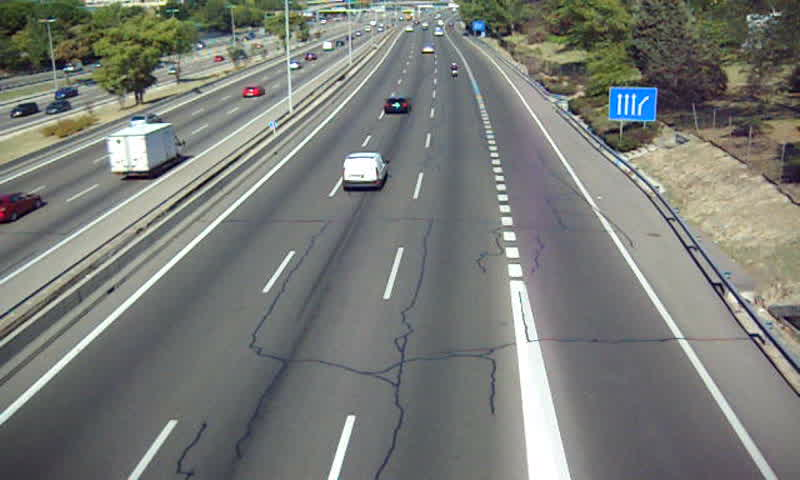car: (383, 97, 412, 116)
motorcycle: (448, 63, 460, 78)
van: (343, 153, 390, 187)
